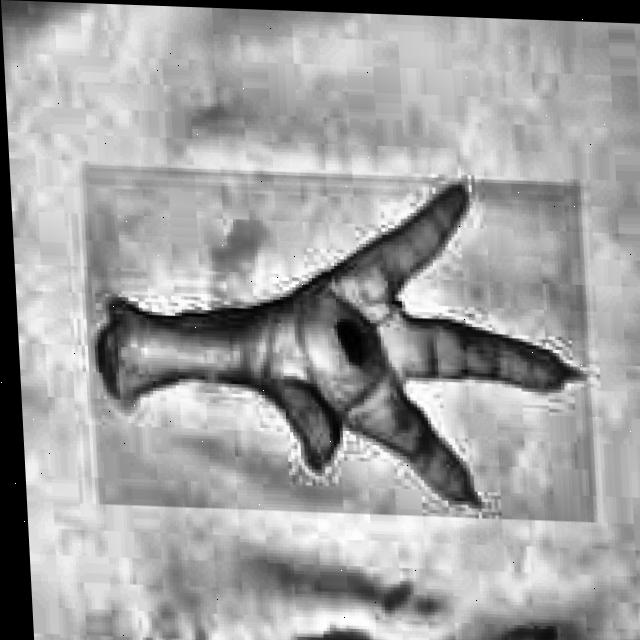Bumble foot: (83, 167, 591, 515), (330, 319, 368, 370)
